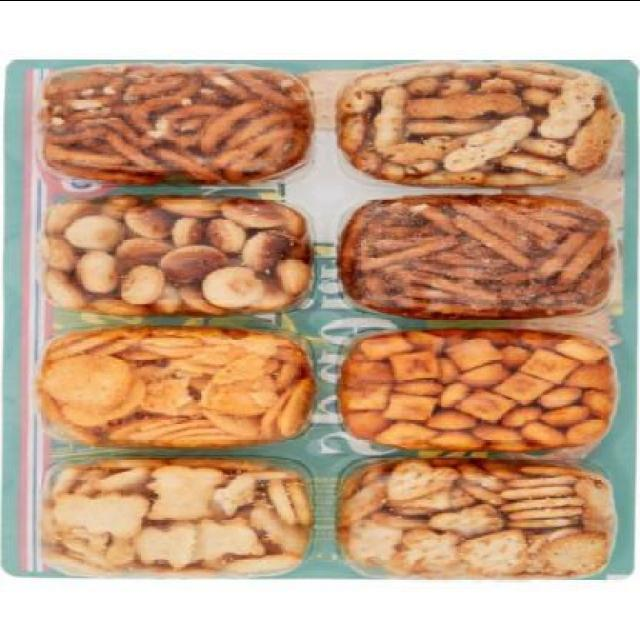Salatini: (1, 54, 639, 580)
